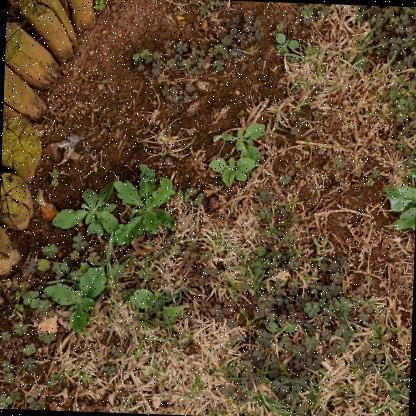Weeds: (110, 164, 179, 251), (42, 265, 108, 333), (50, 180, 120, 241), (379, 159, 415, 237), (214, 121, 267, 161), (131, 289, 187, 325), (210, 155, 257, 189), (273, 32, 300, 56)
